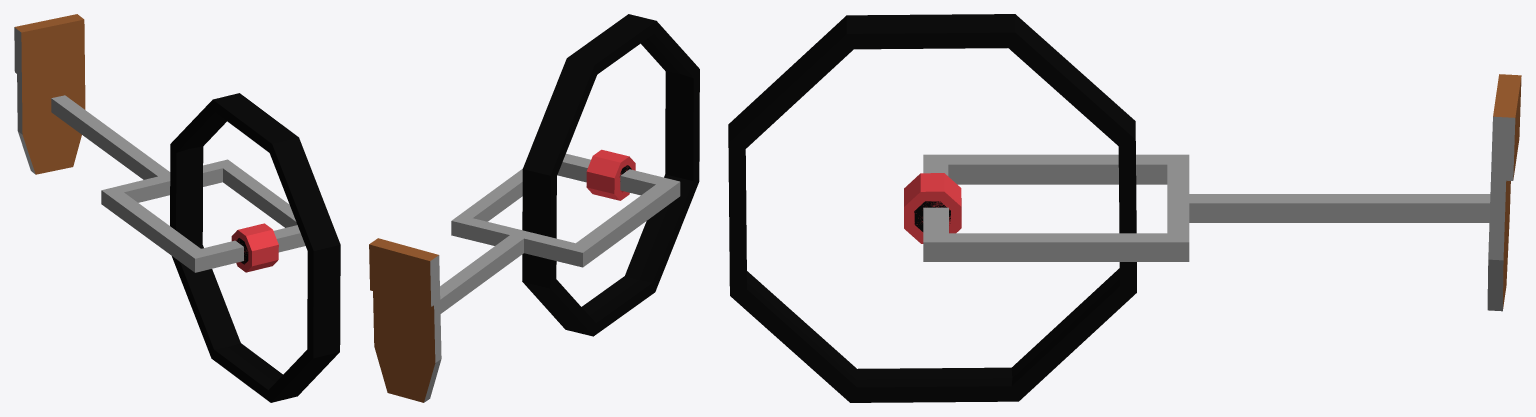
Rendered from velo.fbx.
3 renders of one model, left to right at view 1: azimuth 30°, elevation 25°; view 2: azimuth 150°, elevation 25°; view 3: azimuth 270°, elevation 25°, orthographic. The views are drawn at different scales.
Visible parts, largest first — view 1: Cylinder, Cube, Cube.002; view 2: Cylinder, Cube, Cube.002; view 3: Cylinder, Cube, Cube.002.
Boxes of the visible parts, x1,y1,x2,y2 form: Cylinder: (170, 93, 340, 402); Cube: (51, 95, 305, 272); Cube.002: (14, 14, 85, 174); Cylinder: (522, 14, 699, 336); Cube: (440, 153, 680, 313); Cube.002: (369, 238, 441, 402); Cylinder: (728, 14, 1136, 402); Cube: (923, 154, 1490, 261); Cube.002: (1487, 74, 1521, 311).
Bounding box in the file's own units: 47.01 × 92.72 × 180.
